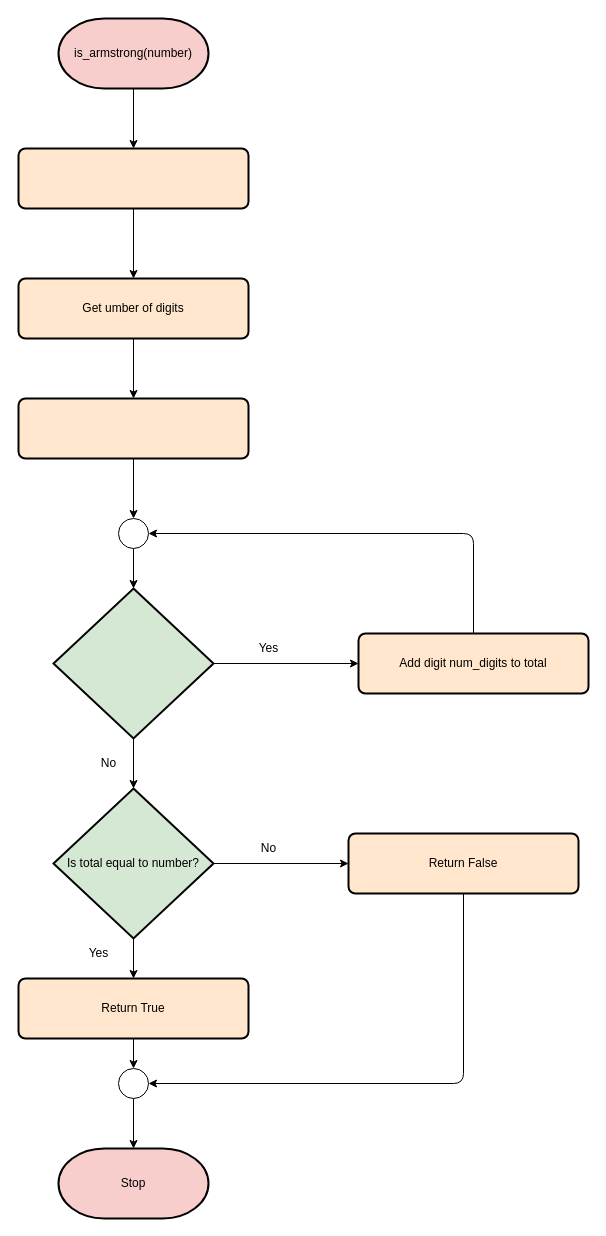
This 606x1236 diagram has some shape labels left out. The shapes that lost their labels are listed below. From the top down, each one's centre as x and y in pixels, then its label:
(133,178): Convert number to string
(133,428): Intitalize tatal to 0
(133,663): For each digit in string
